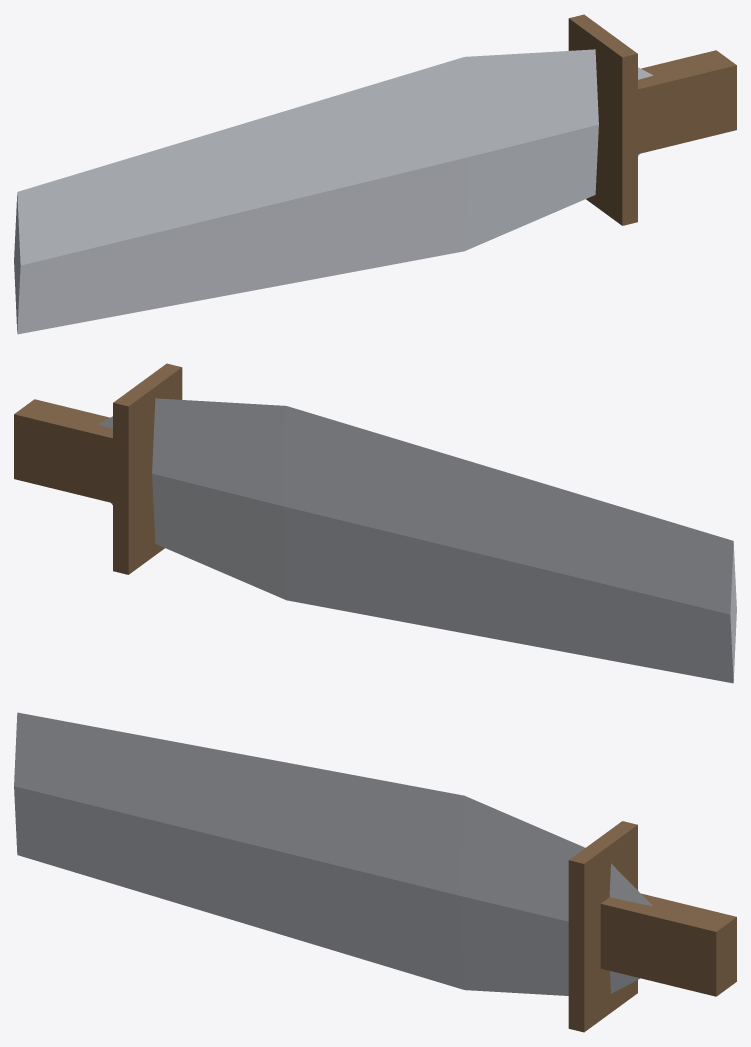
Rendered from Knife.fbx.
The picture shows the model from 3 angles, top to bottom: view 1: azimuth 30°, elevation 25°; view 2: azimuth 150°, elevation 25°; view 3: azimuth 330°, elevation 25°; orthographic projection.
Parts seen in each view (by area): view 1: Knife_Blade, Knife_Guard, Knife_Grip; view 2: Knife_Blade, Knife_Guard, Knife_Grip; view 3: Knife_Blade, Knife_Grip, Knife_Guard.
Boxes of the visible parts, x1,y1,x2,y2 form: Knife_Blade: (14,49,653,334); Knife_Guard: (568,14,637,225); Knife_Grip: (638,50,736,153); Knife_Blade: (97,398,736,683); Knife_Guard: (113,363,182,574); Knife_Grip: (14,399,112,502); Knife_Blade: (14,712,653,995); Knife_Grip: (600,893,736,996); Knife_Guard: (568,821,637,1032).
Bounding box in the file's own units: 42 × 11 × 5.5.
